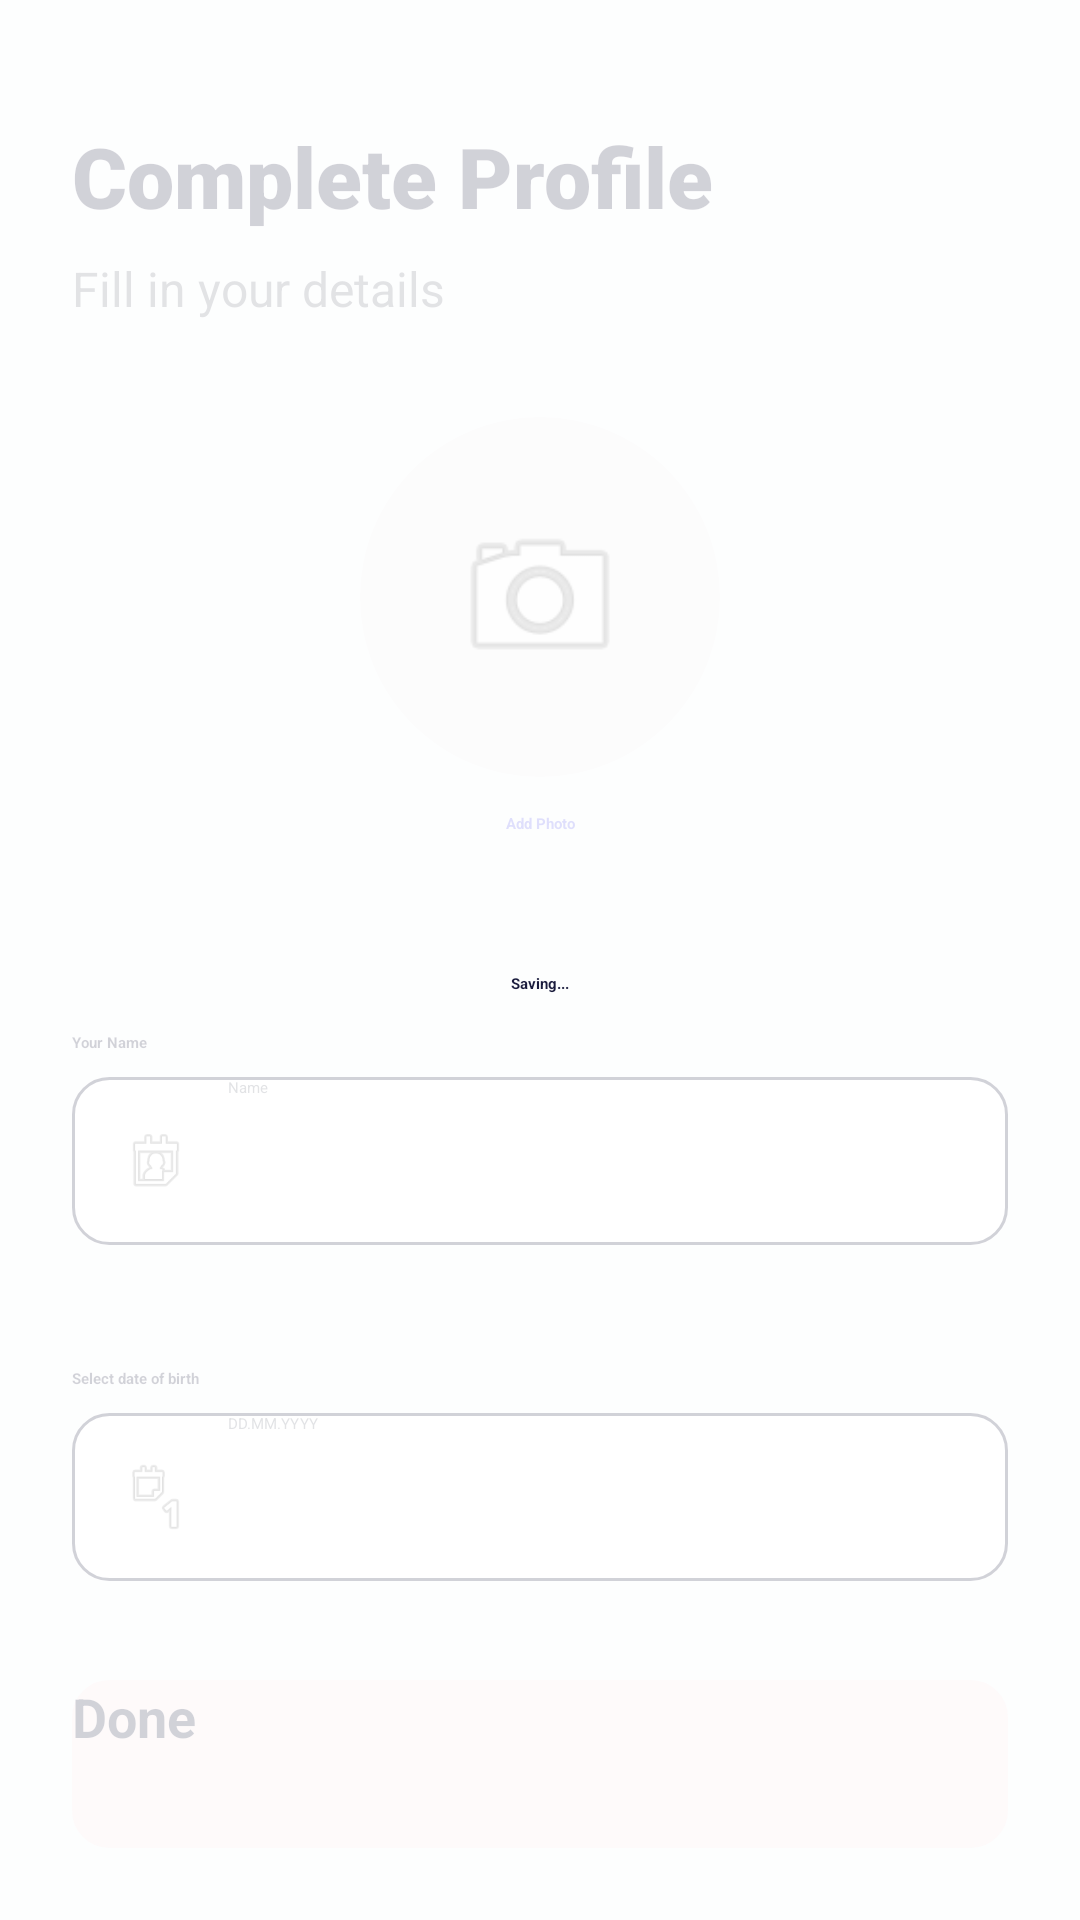

Screen size 1080 x 1920. Icon name, then its center in pixels as (x,y):
camera: (540,594)
day: (156,1497)
